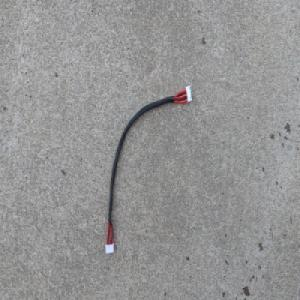Wire: (104, 83, 193, 255)
